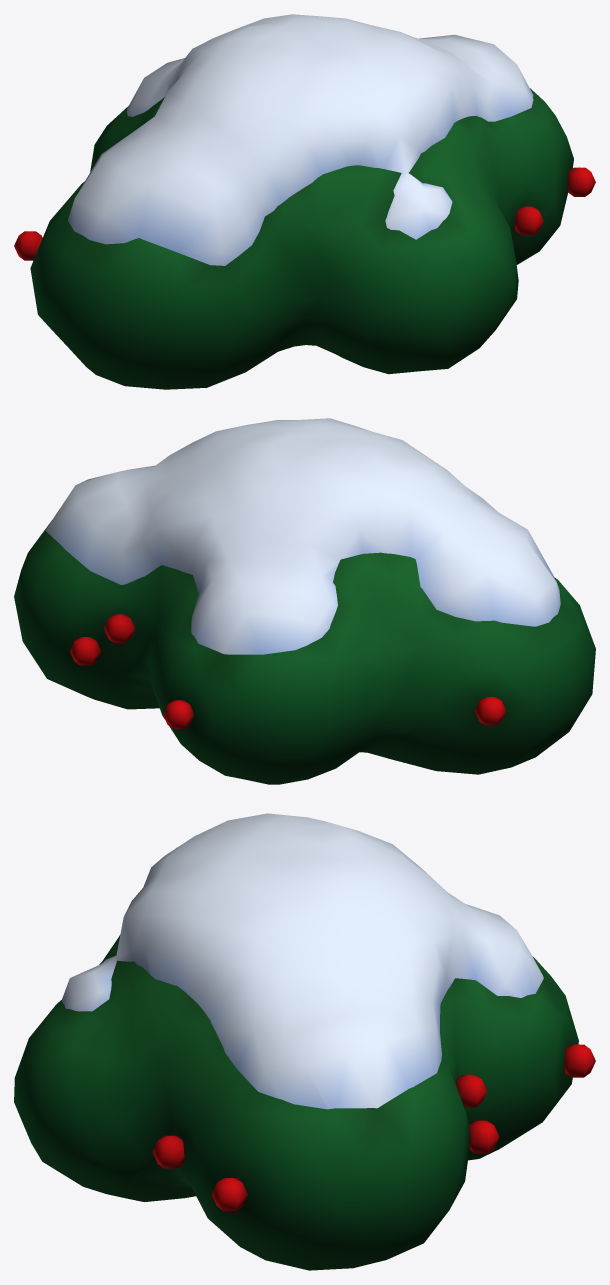
File: Bush_Snowy.fbx
The picture shows the model from 3 angles, top to bottom: view 1: azimuth 30°, elevation 25°; view 2: azimuth 150°, elevation 25°; view 3: azimuth 270°, elevation 25°; orthographic projection. The views are drawn at different scales.
Visible parts, largest first — view 1: Bush_Snowy; view 2: Bush_Snowy; view 3: Bush_Snowy.
Boxes of the visible parts, x1,y1,x2,y2 form: Bush_Snowy: (14, 14, 595, 389); Bush_Snowy: (14, 418, 595, 784); Bush_Snowy: (14, 813, 595, 1270).
Bounding box in the file's own units: 1.7 × 0.8536 × 1.43.
